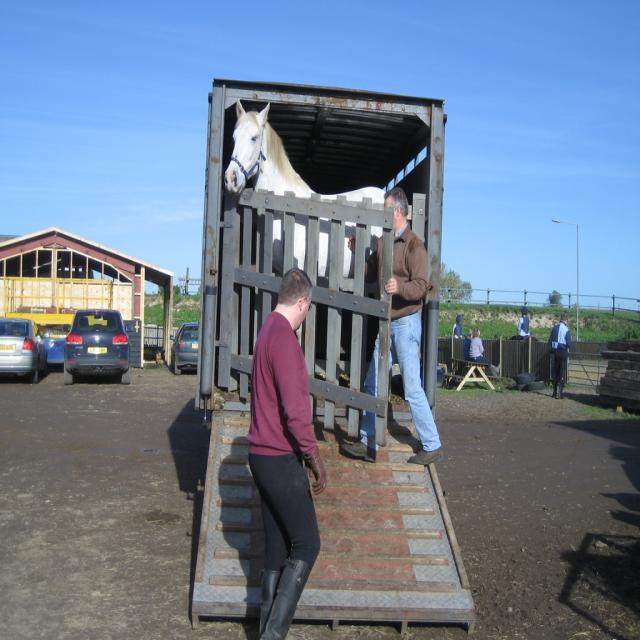car: (63, 308, 130, 384)
